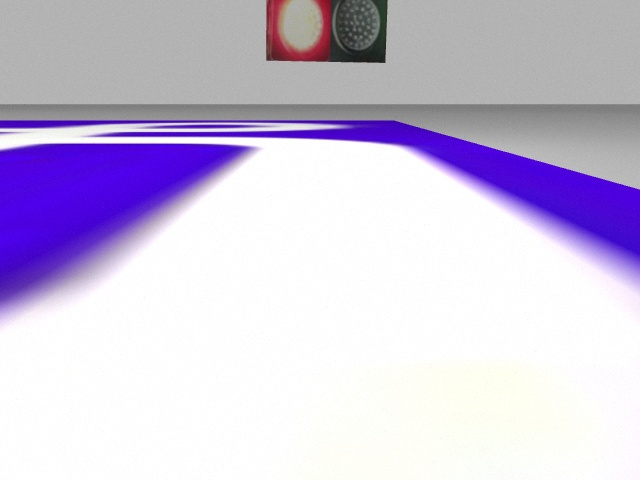red: (266, 1, 331, 61)
